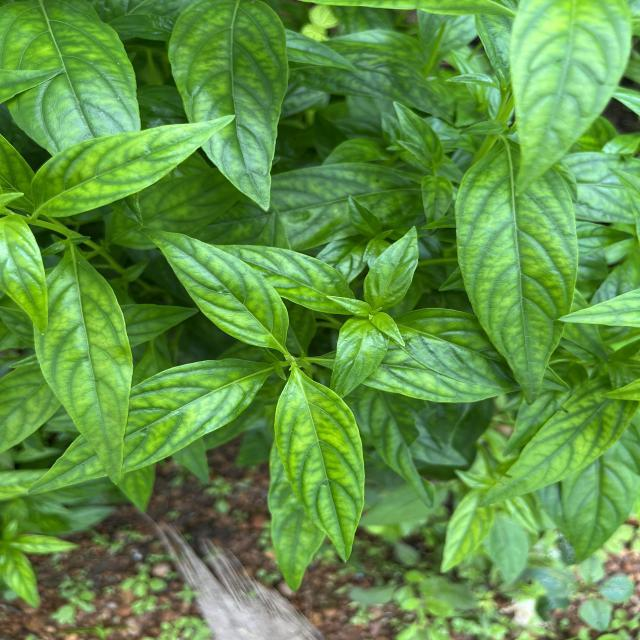Andrographis paniculata: (451, 138, 581, 406), (24, 356, 272, 494), (167, 0, 291, 214), (30, 246, 134, 487), (25, 113, 245, 220), (473, 387, 640, 513), (140, 226, 290, 353), (274, 373, 368, 565), (210, 240, 354, 316), (0, 212, 51, 337), (362, 226, 422, 314)
